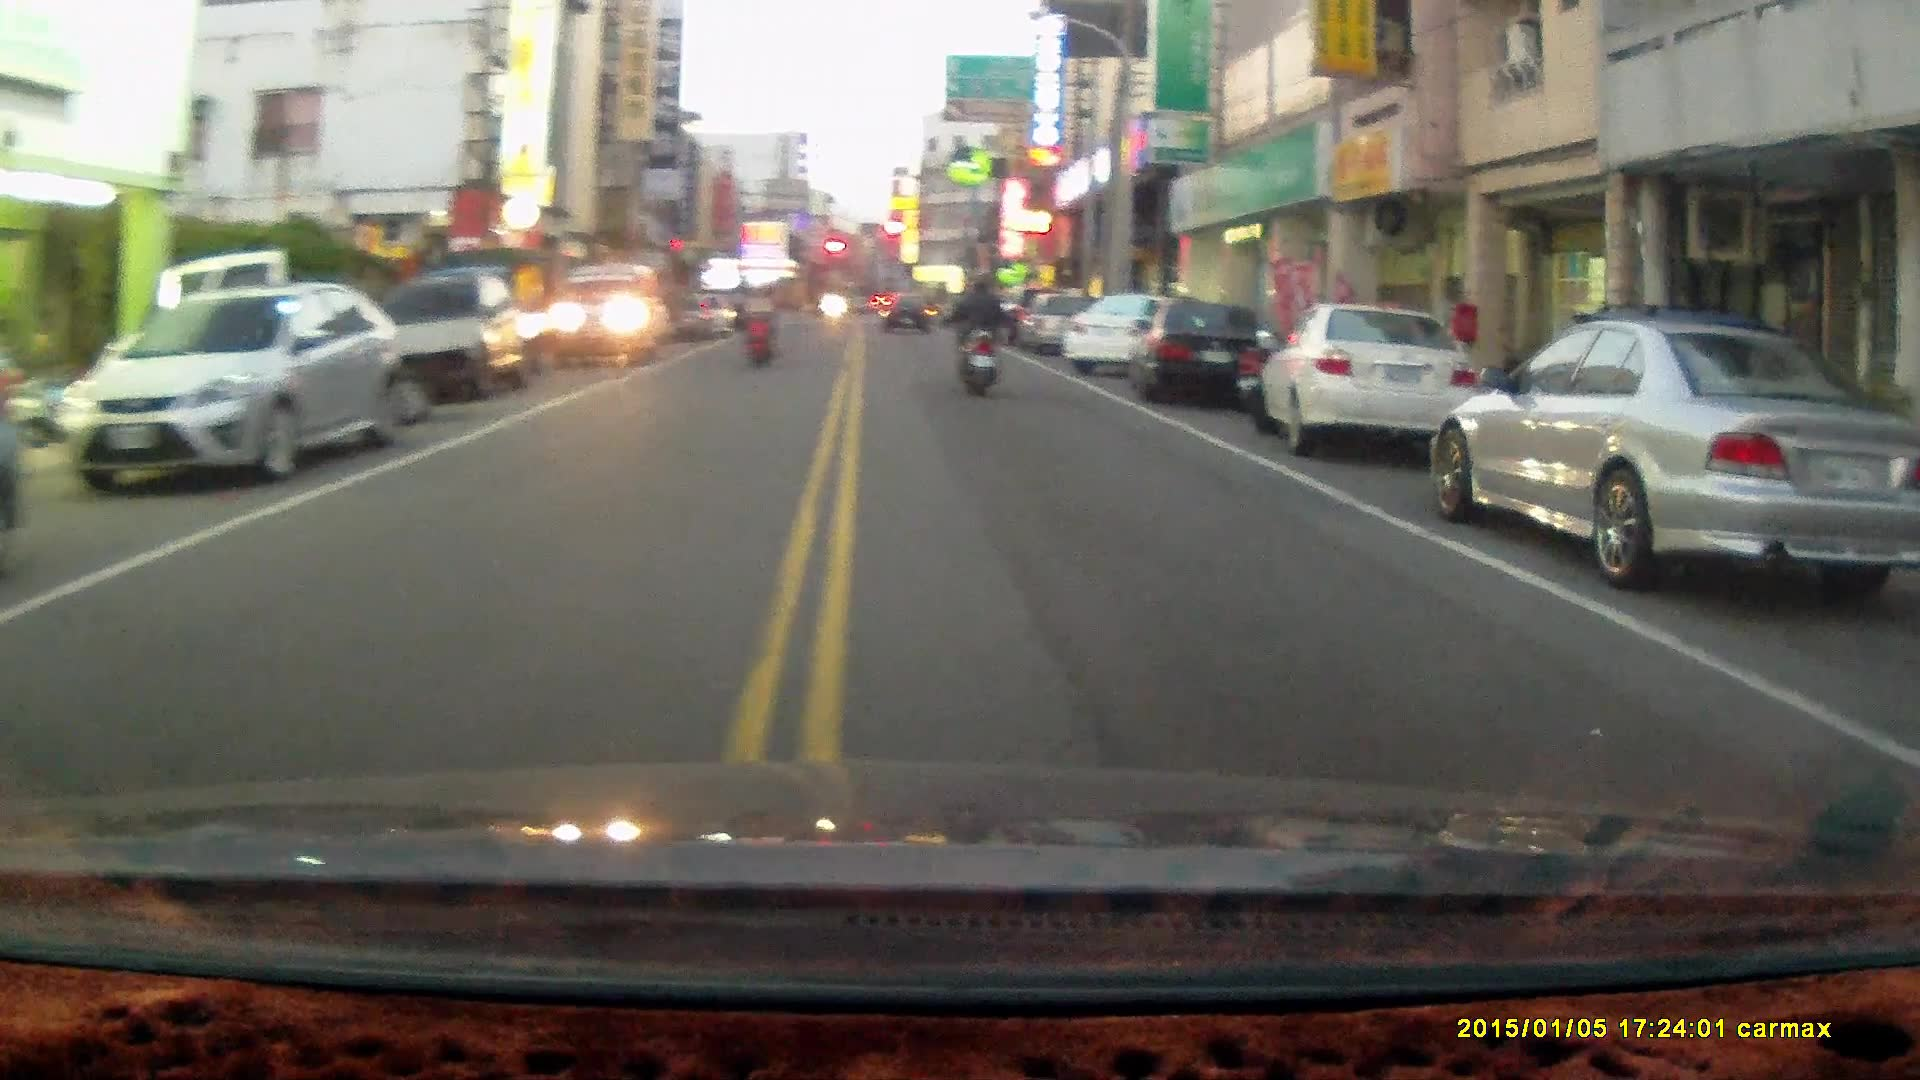rider: (948, 270, 1001, 396), (741, 283, 778, 367)
vehicle: (1438, 314, 1912, 595), (64, 283, 406, 488), (1247, 301, 1485, 455), (377, 270, 523, 405), (1133, 295, 1272, 407), (549, 259, 665, 368), (1059, 289, 1194, 375)
